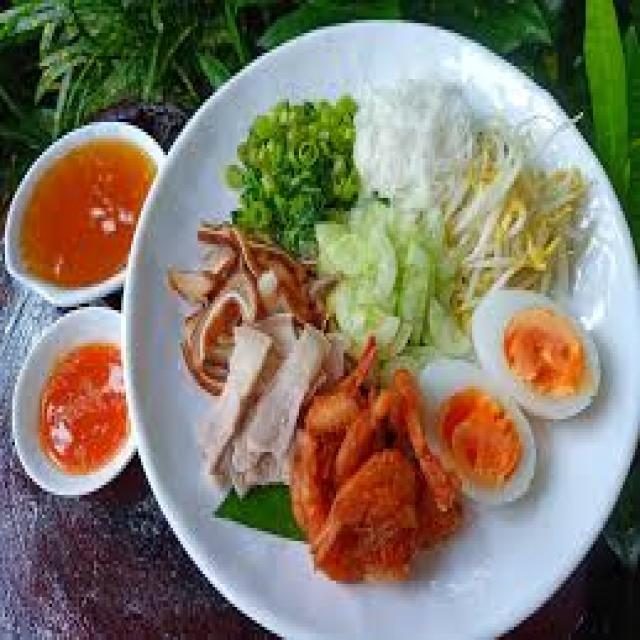Carbohydrate: (356, 73, 478, 208)
Protein: (292, 291, 604, 587)
Taokua: (142, 18, 640, 640)
Vegetable: (182, 89, 348, 522), (320, 130, 581, 342)
